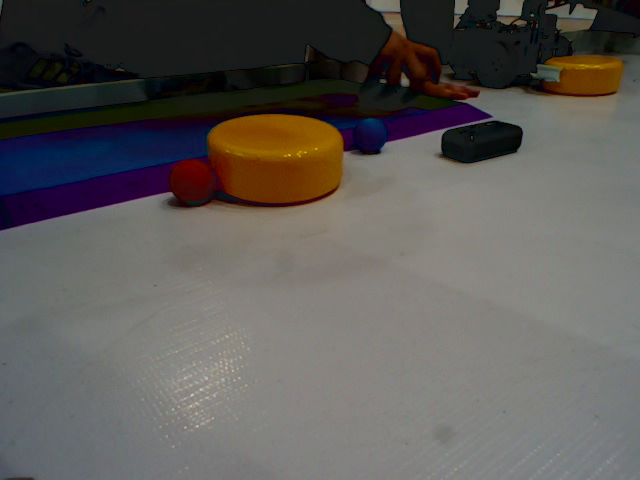black: (439, 121, 531, 165)
blue: (353, 114, 391, 156)
kuang: (1, 75, 494, 244)
red: (166, 159, 221, 207)
yellow: (205, 109, 349, 208), (543, 48, 628, 105)
